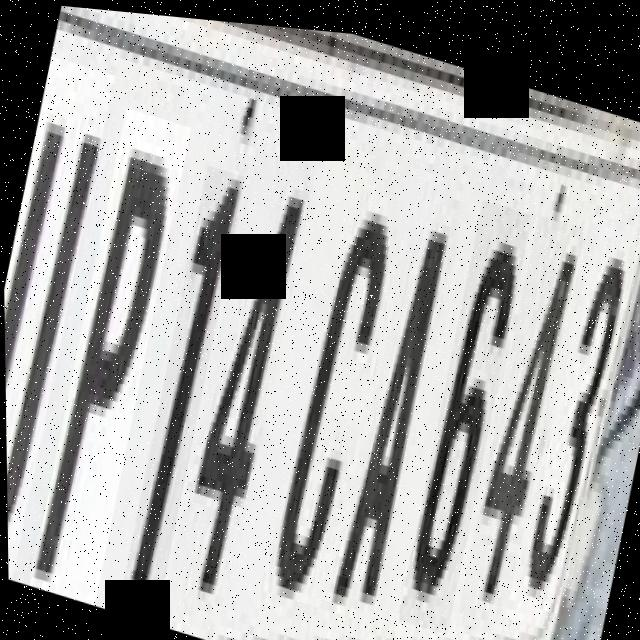1: (112, 154, 250, 618)
3: (508, 197, 640, 625)
4: (158, 136, 321, 621), (448, 196, 588, 636)
6: (391, 183, 536, 633)
A: (318, 165, 475, 635)
C: (255, 142, 410, 617)
P: (22, 97, 196, 612)
U: (1, 51, 119, 588)
